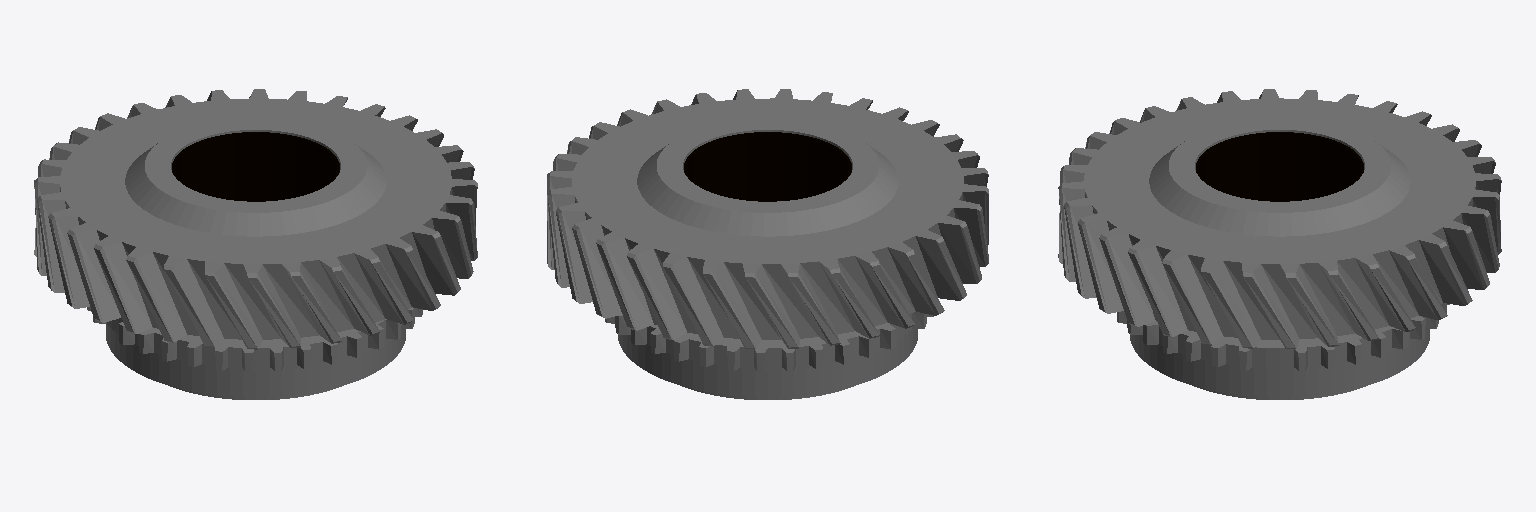
Rendered from reverseGear.obj.
3 renders of one model, left to right at view 1: azimuth 30°, elevation 25°; view 2: azimuth 150°, elevation 25°; view 3: azimuth 270°, elevation 25°, orthographic.
Visible parts, largest first — view 1: pPipe1, pPipe2, pPipe3; view 2: pPipe1, pPipe2, pPipe3; view 3: pPipe1, pPipe2, pPipe3.
Part boxes in pixels (x1,y1,x2,y2): pPipe1: (34,89,477,349); pPipe2: (87,307,422,399); pPipe3: (172,132,339,201); pPipe1: (547,89,988,348); pPipe2: (605,312,933,399); pPipe3: (684,132,851,201); pPipe1: (1058,89,1501,348); pPipe2: (1117,303,1449,399); pPipe3: (1196,132,1363,201).
Bounding box in the file's own units: 4.25 × 1.91 × 4.25.